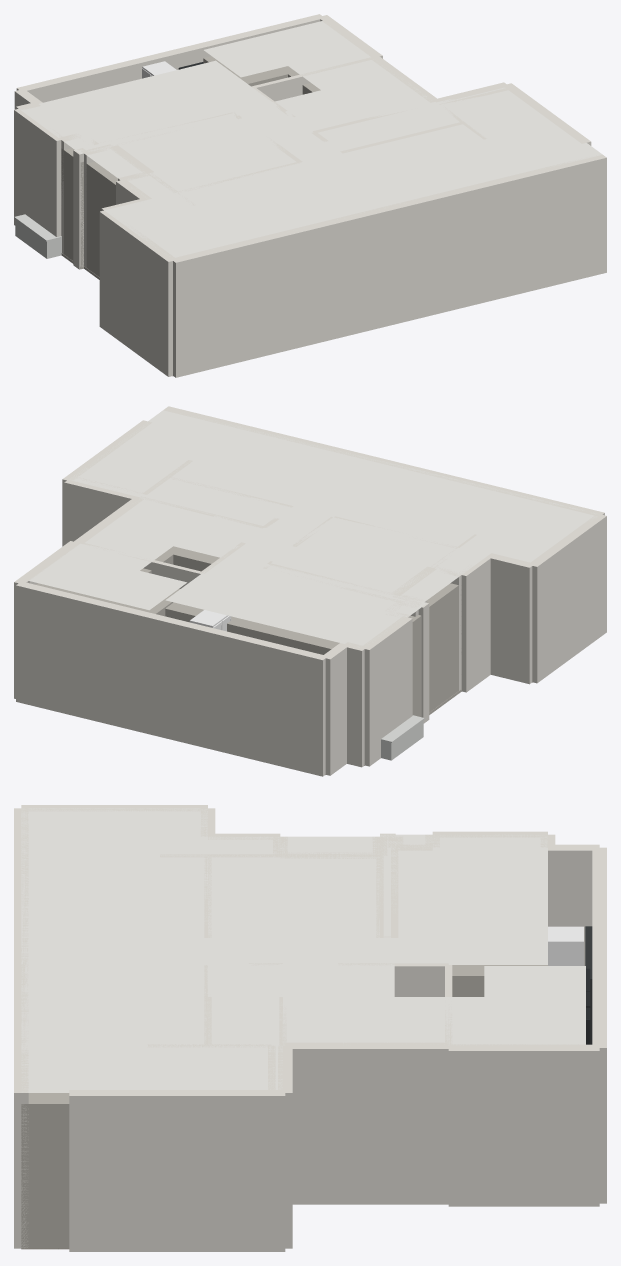
Rendered from house_design_demo.glb.
The picture shows the model from 3 angles, top to bottom: view 1: azimuth 30°, elevation 25°; view 2: azimuth 150°, elevation 25°; view 3: azimuth 270°, elevation 25°; orthographic projection. The views are drawn at different scales.
Parts seen in each view (by area): view 1: WALL_EXT_007, CEILING_LIVING_ROOM, CEILING_MASTER_BEDROOM, CEILING_DINING, WALL_EXT_008, CEILING_BEDROOM_01, CEILING_KITCHEN, WALL_EXT_018, CEILING_BALCONY, WALL_EXT_001, CEILING_BEDROOM_02, CEILING_STUDY (+14 smaller); view 2: WALL_EXT_001, CEILING_LIVING_ROOM, CEILING_MASTER_BEDROOM, CEILING_DINING, CEILING_BEDROOM_01, WALL_EXT_008, CEILING_KITCHEN, WALL_EXT_018, WALL_EXT_009, CEILING_BALCONY, CEILING_BEDROOM_02, CEILING_STUDY (+17 smaller); view 3: WALL_EXT_006, CEILING_LIVING_ROOM, WALL_EXT_004, WALL_EXT_002, CEILING_MASTER_BEDROOM, CEILING_DINING, CEILING_BEDROOM_01, CEILING_KITCHEN, CEILING_ENTRY, CEILING_BALCONY, CEILING_BEDROOM_02, ROOM_VOLUME_KITCHEN (+16 smaller).
Boxes of the visible parts, bbox=[...] form: WALL_EXT_007: bbox=[171, 155, 606, 377]; CEILING_LIVING_ROOM: bbox=[105, 152, 406, 256]; CEILING_MASTER_BEDROOM: bbox=[19, 60, 277, 153]; CEILING_DINING: bbox=[318, 102, 529, 200]; WALL_EXT_008: bbox=[99, 210, 175, 376]; CEILING_BEDROOM_01: bbox=[87, 116, 296, 198]; CEILING_KITCHEN: bbox=[436, 87, 602, 170]; WALL_EXT_018: bbox=[14, 109, 62, 236]; CEILING_BALCONY: bbox=[104, 193, 242, 257]; WALL_EXT_001: bbox=[16, 14, 324, 102]; CEILING_BEDROOM_02: bbox=[302, 59, 435, 119]; CEILING_STUDY: bbox=[250, 21, 370, 75]; WALL_EXT_001: bbox=[16, 581, 327, 776]; CEILING_LIVING_ROOM: bbox=[292, 456, 594, 561]; CEILING_MASTER_BEDROOM: bbox=[165, 554, 426, 647]; CEILING_DINING: bbox=[140, 426, 361, 525]; CEILING_BEDROOM_01: bbox=[271, 517, 488, 601]; WALL_EXT_008: bbox=[528, 514, 606, 683]; CEILING_KITCHEN: bbox=[69, 410, 237, 497]; WALL_EXT_018: bbox=[360, 616, 412, 766]; WALL_EXT_009: bbox=[486, 553, 532, 684]; CEILING_BALCONY: bbox=[460, 498, 597, 562]; CEILING_BEDROOM_02: bbox=[85, 498, 213, 560]; CEILING_STUDY: bbox=[29, 543, 152, 598]; WALL_EXT_006: bbox=[69, 1090, 285, 1251]; CEILING_LIVING_ROOM: bbox=[21, 808, 207, 964]; WALL_EXT_004: bbox=[285, 1042, 448, 1204]; WALL_EXT_002: bbox=[448, 1044, 599, 1206]; CEILING_MASTER_BEDROOM: bbox=[380, 834, 547, 964]; CEILING_DINING: bbox=[21, 965, 282, 1045]; CEILING_BEDROOM_01: bbox=[208, 836, 379, 937]; CEILING_KITCHEN: bbox=[21, 1045, 282, 1092]; CEILING_ENTRY: bbox=[208, 938, 394, 996]; CEILING_BALCONY: bbox=[21, 808, 207, 855]; CEILING_BEDROOM_02: bbox=[283, 997, 448, 1045]; ROOM_VOLUME_KITCHEN: bbox=[21, 1093, 69, 1248].
Bounding box in the file's own units: 11.22 × 2.83 × 9.66.
Materials: 52 (1 with a texture image).
